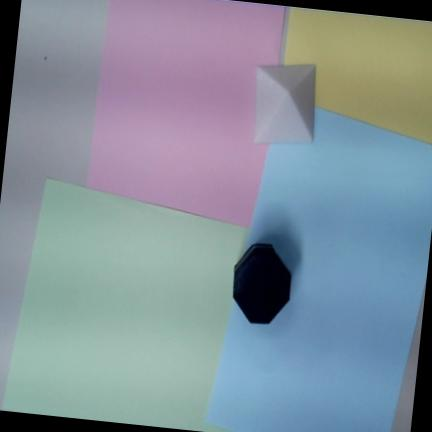Piramide: (254, 64, 316, 145)
Prisma_hexagonal: (233, 243, 291, 325)
